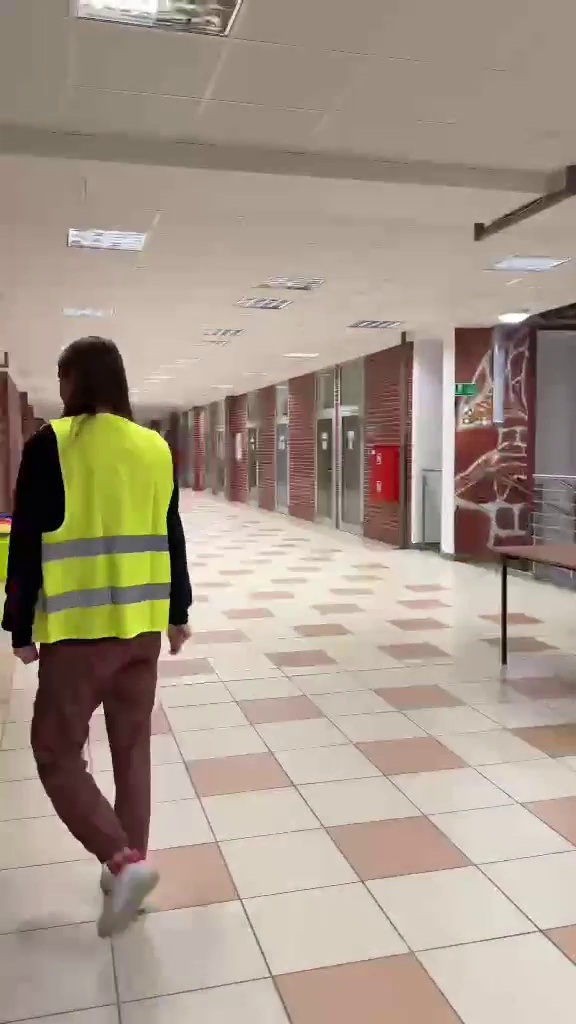vest: (17, 331, 207, 935)
